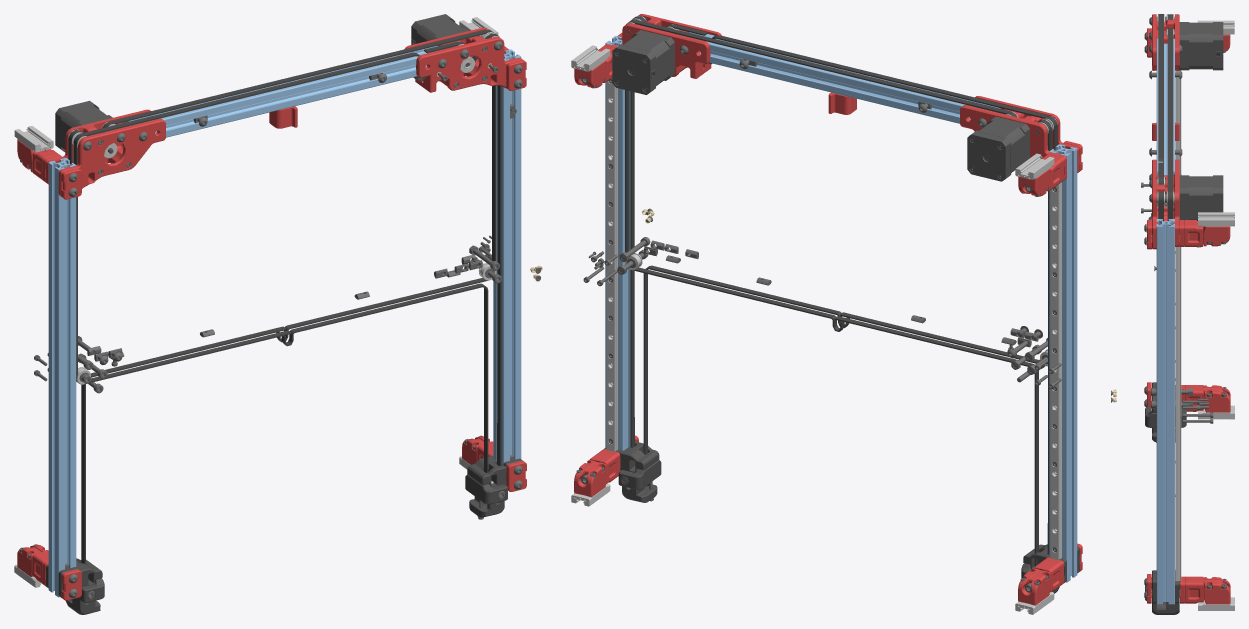
File: gantry.glb
3 renders of one model, left to right at view 1: azimuth 30°, elevation 25°; view 2: azimuth 150°, elevation 25°; view 3: azimuth 270°, elevation 25°, orthographic. The views are drawn at different scales.
Size of the model in its own units: 510 by 507 by 134.
